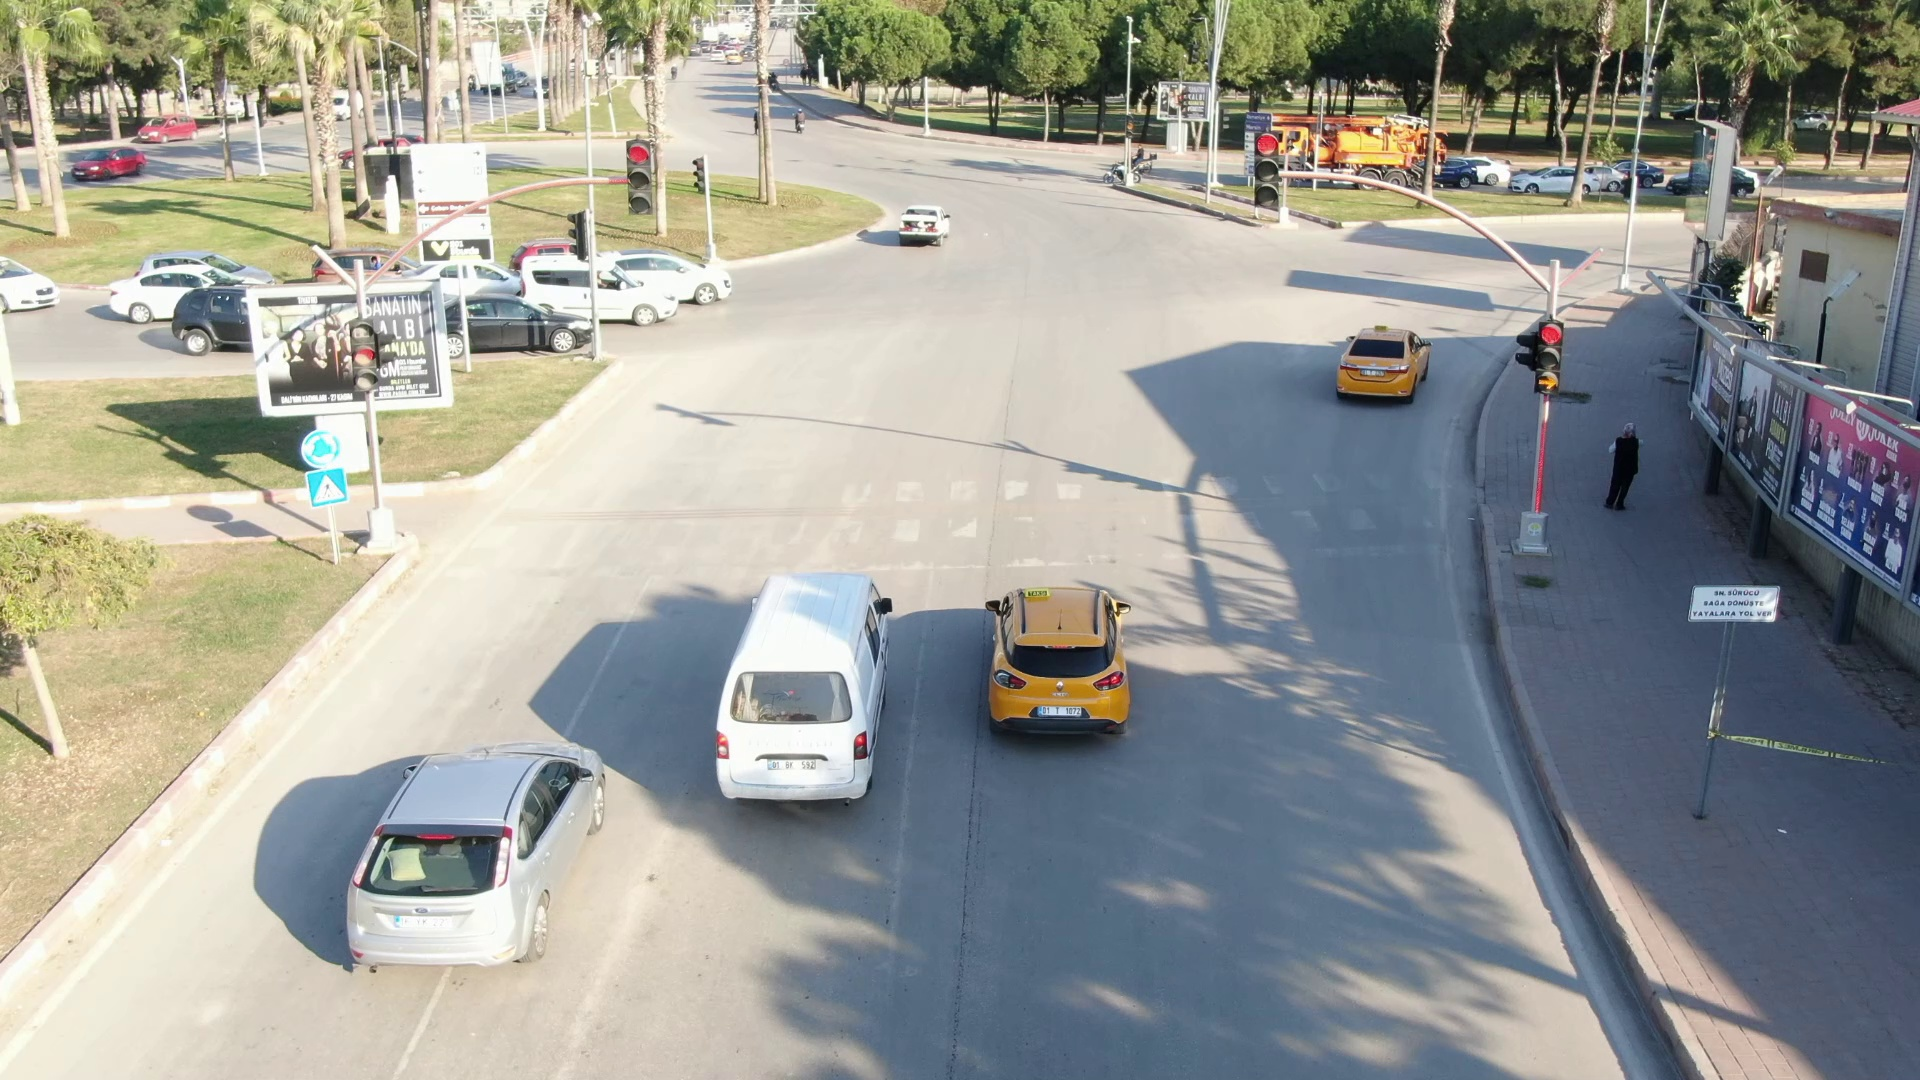car: (337, 743, 612, 968), (710, 570, 896, 812), (980, 584, 1147, 745), (525, 261, 678, 331), (100, 263, 286, 319), (437, 300, 596, 361), (592, 249, 731, 312), (1341, 321, 1437, 406), (174, 284, 257, 359), (390, 249, 525, 292), (70, 143, 157, 190), (898, 208, 961, 235)
person: (1606, 414, 1645, 519)
